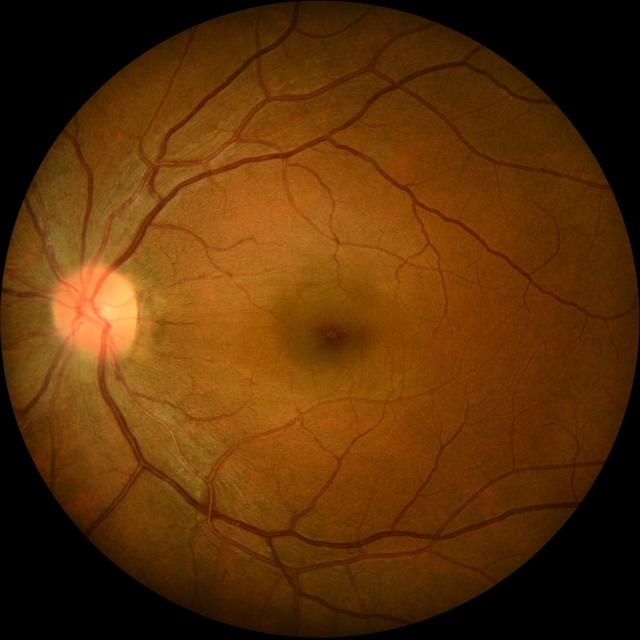OC: (80, 294, 115, 329)
OD: (51, 264, 138, 356)
